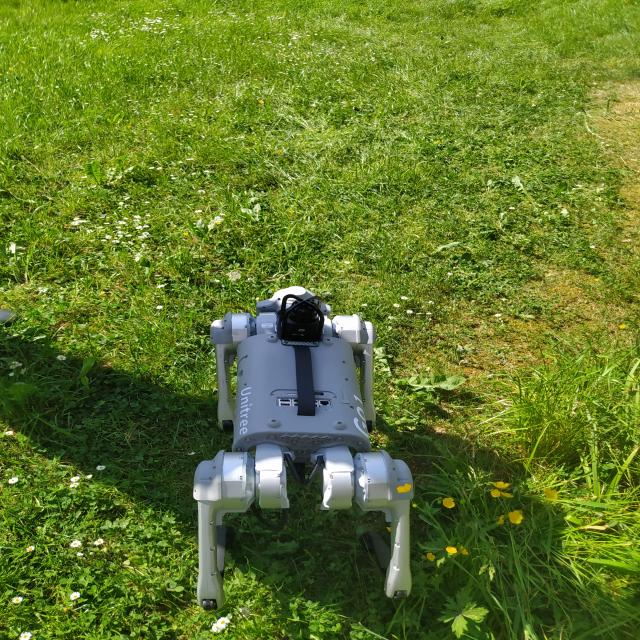unitree-go1-robot: (176, 274, 441, 622)
